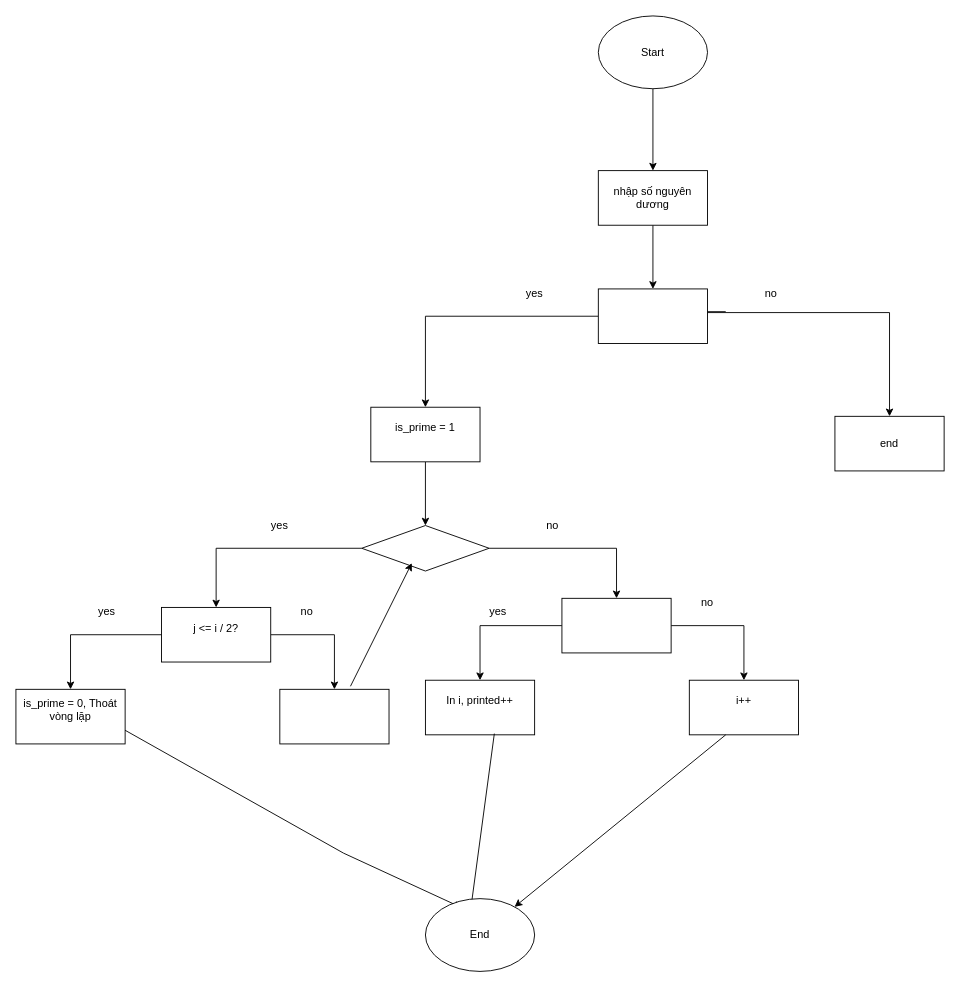
The diagram is 960 pixels wide and 987 high, and some of its shapes have lost their labels. The centre of each missing label's shape, as x and y in pixels:
"i % j == 0?: (x=425, y=548)
"j++: (x=334, y=716)
i = 2, printed = 0: (x=652, y=316)
is_prime == 1: (x=616, y=625)
